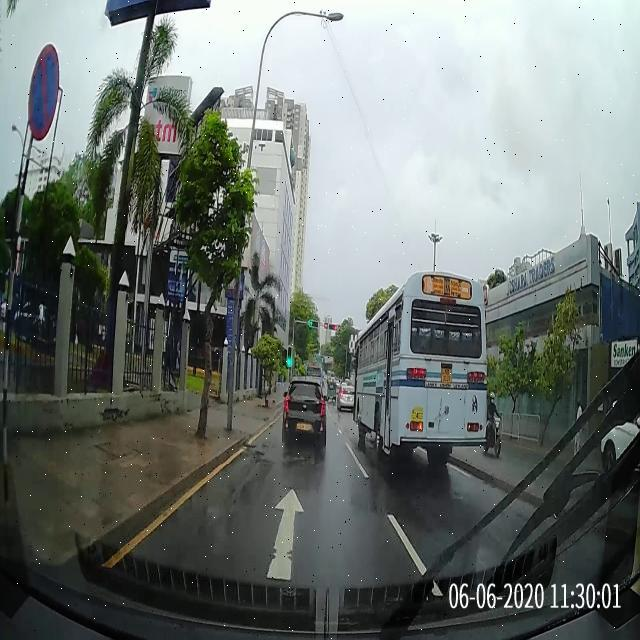forward: (91, 464, 450, 599)
